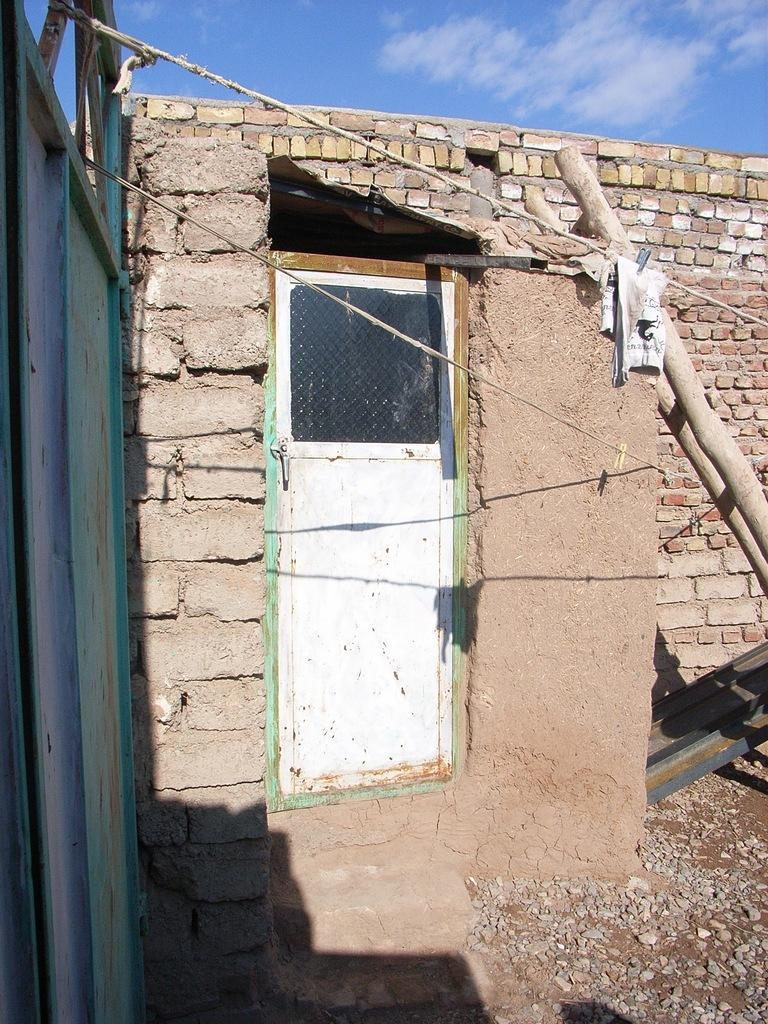door: (277, 282, 450, 760)
handle: (277, 438, 290, 488)
